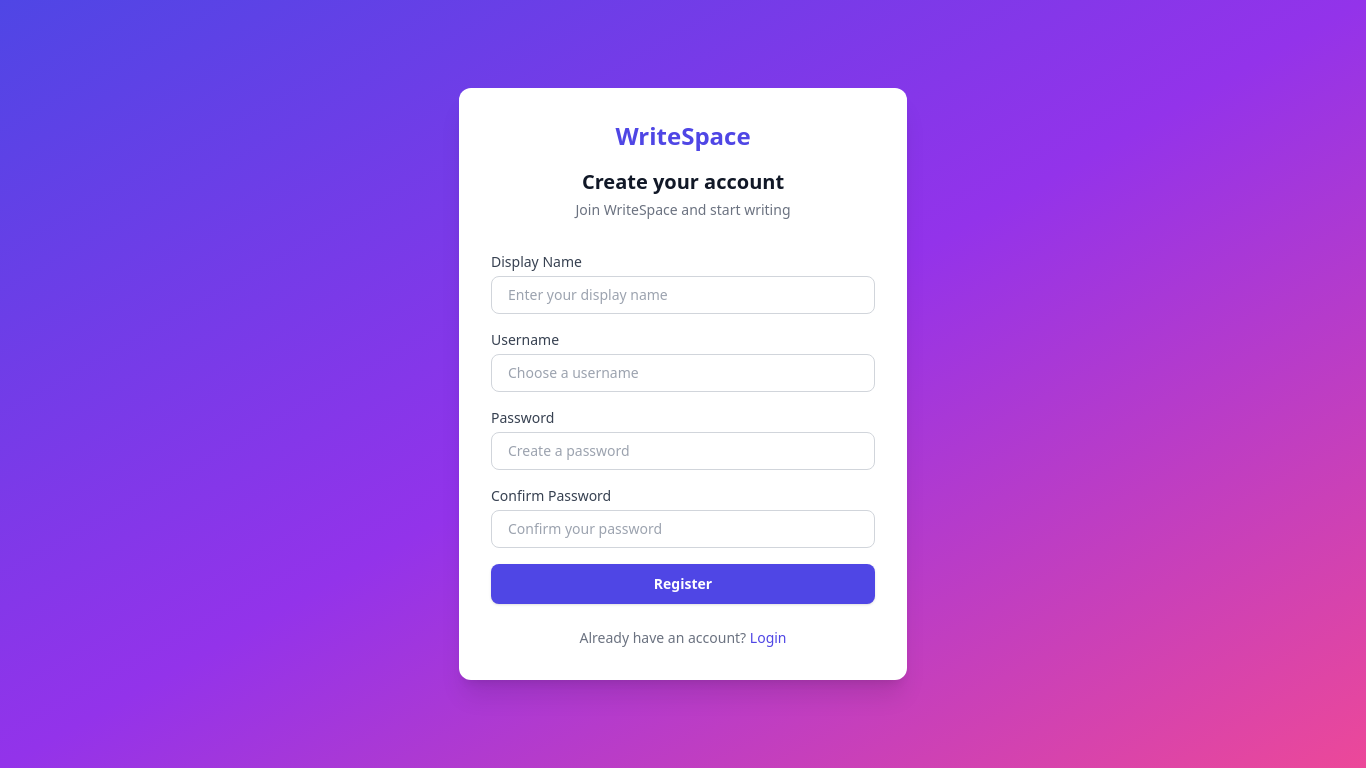
Scenario: RegisterPage › validation: required fields › displays error when all fields are empty
Click the button "Register". click: (683, 584)
box: 491,564 -> 875,604
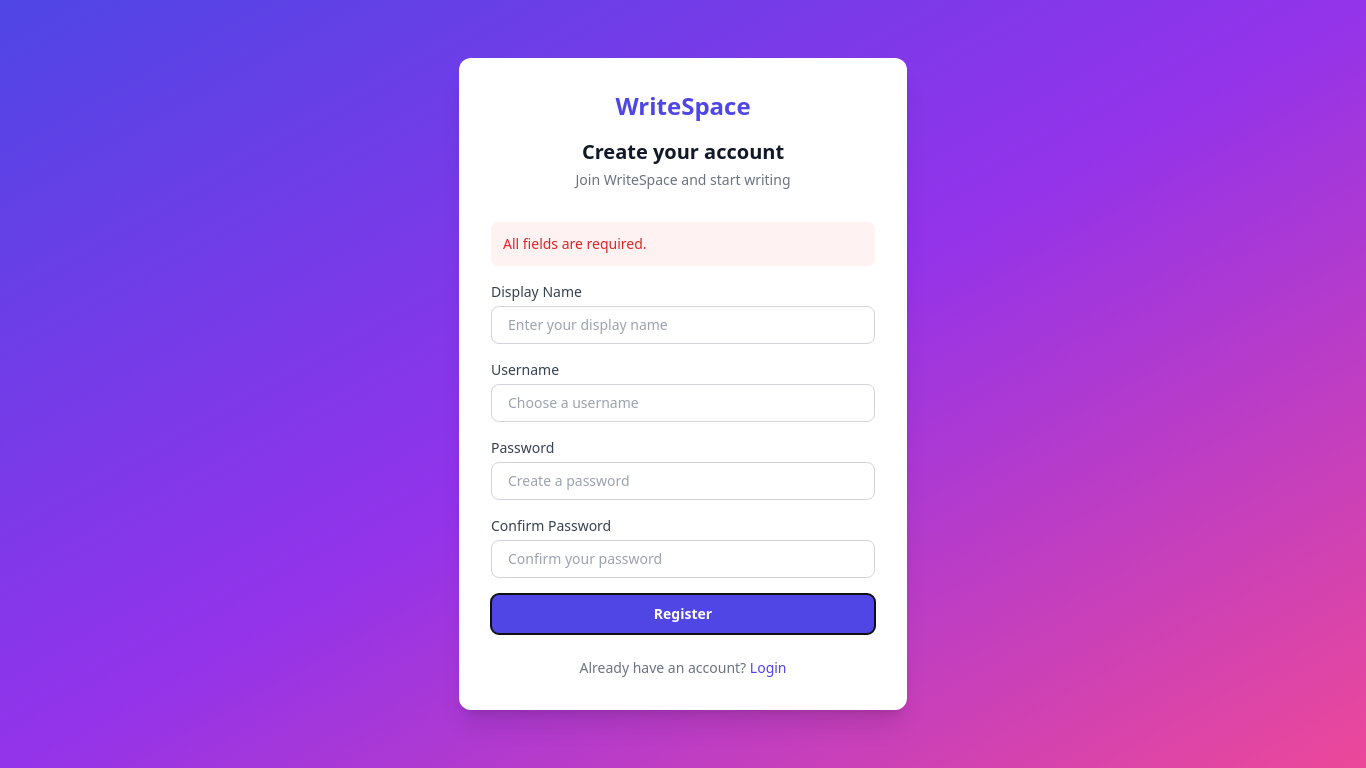
Check: the text "All fields are required." is shown, box 491,222 -> 875,266
